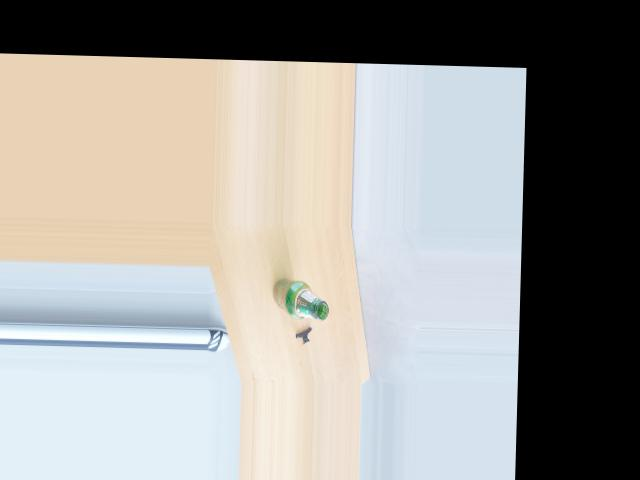beer: (271, 277, 328, 321)
